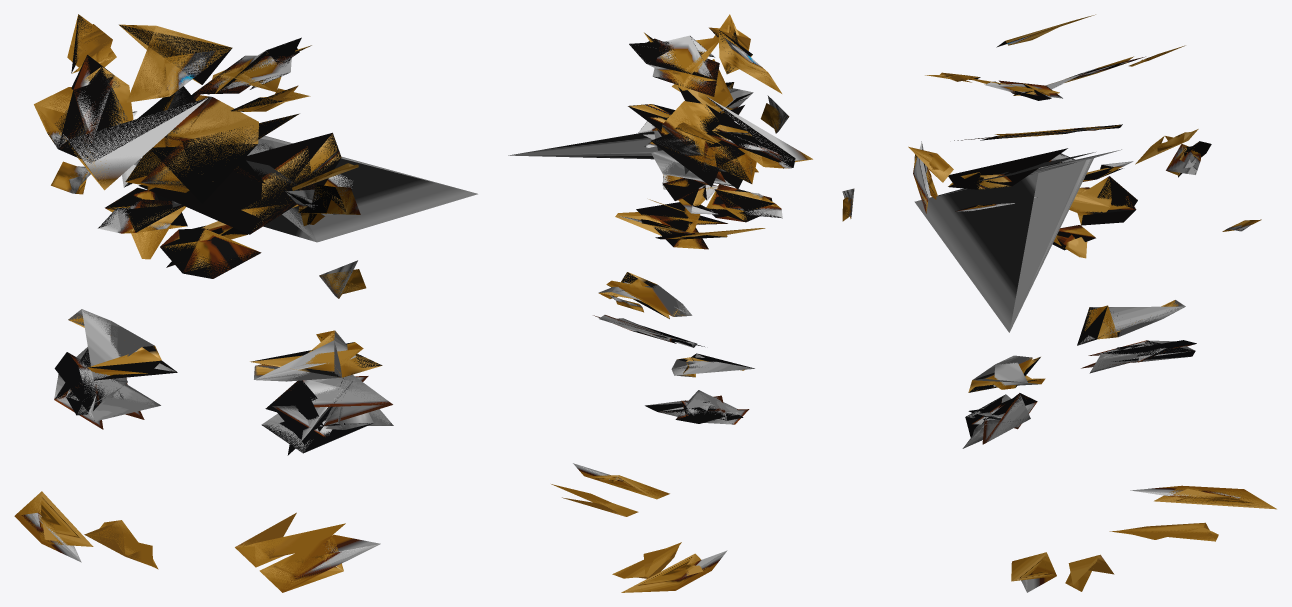
The model's file is glaive.obj.
3 views of the same model, side by side, from view 1: azimuth 30°, elevation 25°; view 2: azimuth 150°, elevation 25°; view 3: azimuth 270°, elevation 25° (orthographic). The views are drawn at different scales.
Visible parts, largest first — view 1: bone_13, bone_12, bone_01, bone_00, bone_09, bone_28, bone_04, bone_03, bone_08, bone_11, bone_27, bone_18 (+10 smaller); view 2: bone_12, bone_18, bone_00, bone_13, bone_07, bone_04, bone_08, bone_06, bone_28, bone_24, bone_23, bone_03 (+10 smaller); view 3: bone_00, bone_03, bone_02, bone_09, bone_01, bone_06, bone_04, bone_08, bone_05, bone_11, bone_16, bone_10 (+6 smaller).
Boxes of the visible parts, x1,y1,x2,y2 form: bone_13: [34, 55, 207, 190]; bone_12: [125, 86, 299, 203]; bone_01: [138, 132, 341, 234]; bone_00: [172, 136, 477, 242]; bone_09: [261, 374, 393, 455]; bone_28: [119, 24, 232, 102]; bone_04: [54, 347, 160, 429]; bone_03: [68, 309, 177, 380]; bone_08: [250, 330, 382, 381]; bone_11: [259, 534, 380, 592]; bone_27: [160, 228, 261, 278]; bone_18: [192, 37, 311, 94]; bone_12: [651, 87, 758, 186]; bone_18: [629, 32, 719, 96]; bone_00: [508, 130, 733, 186]; bone_13: [706, 96, 812, 168]; bone_07: [615, 202, 727, 249]; bone_04: [645, 390, 749, 424]; bone_08: [598, 272, 692, 318]; bone_06: [621, 550, 727, 592]; bone_28: [719, 30, 781, 93]; bone_24: [662, 178, 718, 214]; bone_23: [714, 189, 782, 218]; bone_03: [671, 353, 754, 377]; bone_00: [914, 149, 1121, 332]; bone_03: [1077, 300, 1185, 345]; bone_02: [1069, 176, 1137, 225]; bone_09: [962, 393, 1037, 448]; bone_01: [948, 148, 1095, 189]; bone_06: [1130, 485, 1276, 509]; bone_04: [1081, 340, 1196, 373]; bone_08: [968, 355, 1045, 392]; bone_05: [1109, 522, 1218, 541]; bone_11: [1011, 552, 1056, 592]; bone_16: [1166, 141, 1211, 177]; bone_10: [1065, 554, 1114, 591].
Bounding box in the file's own units: 1.39 × 1.98 × 1.56.
47 materials, 44 textured.
